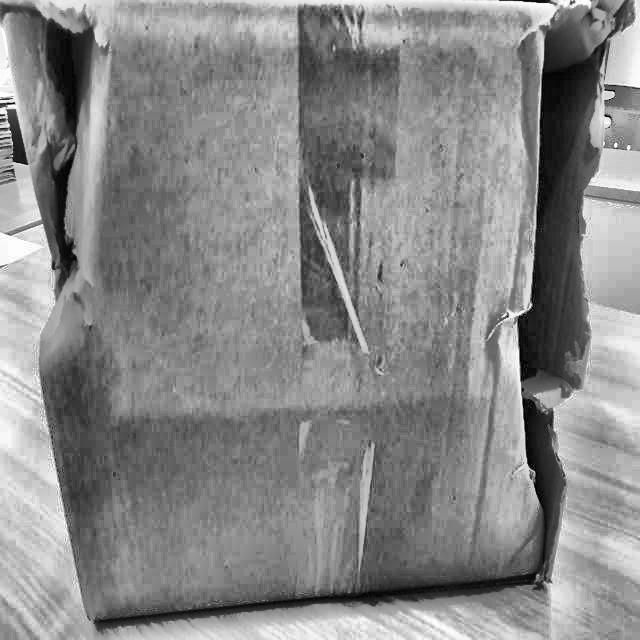box: (0, 0, 639, 636)
hole: (504, 2, 611, 578), (2, 4, 105, 324)
